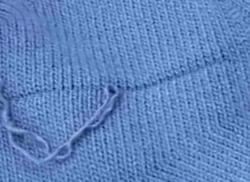snag: (92, 78, 133, 114)
